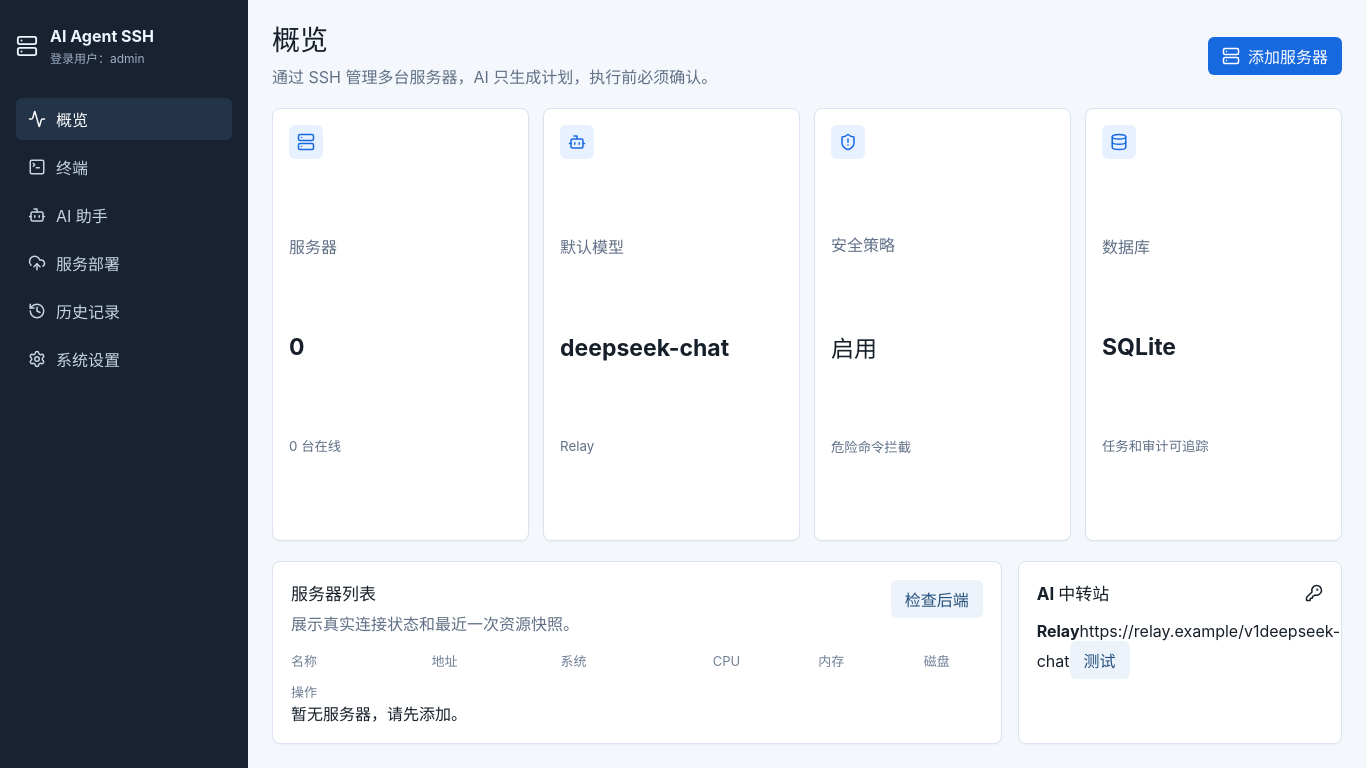
Test case: App interactions › manages AI provider testing, model fetching, manual model and default model
Click the button "系统设置".
click(124, 359)  # box x1=16 y1=338 x2=232 y2=380
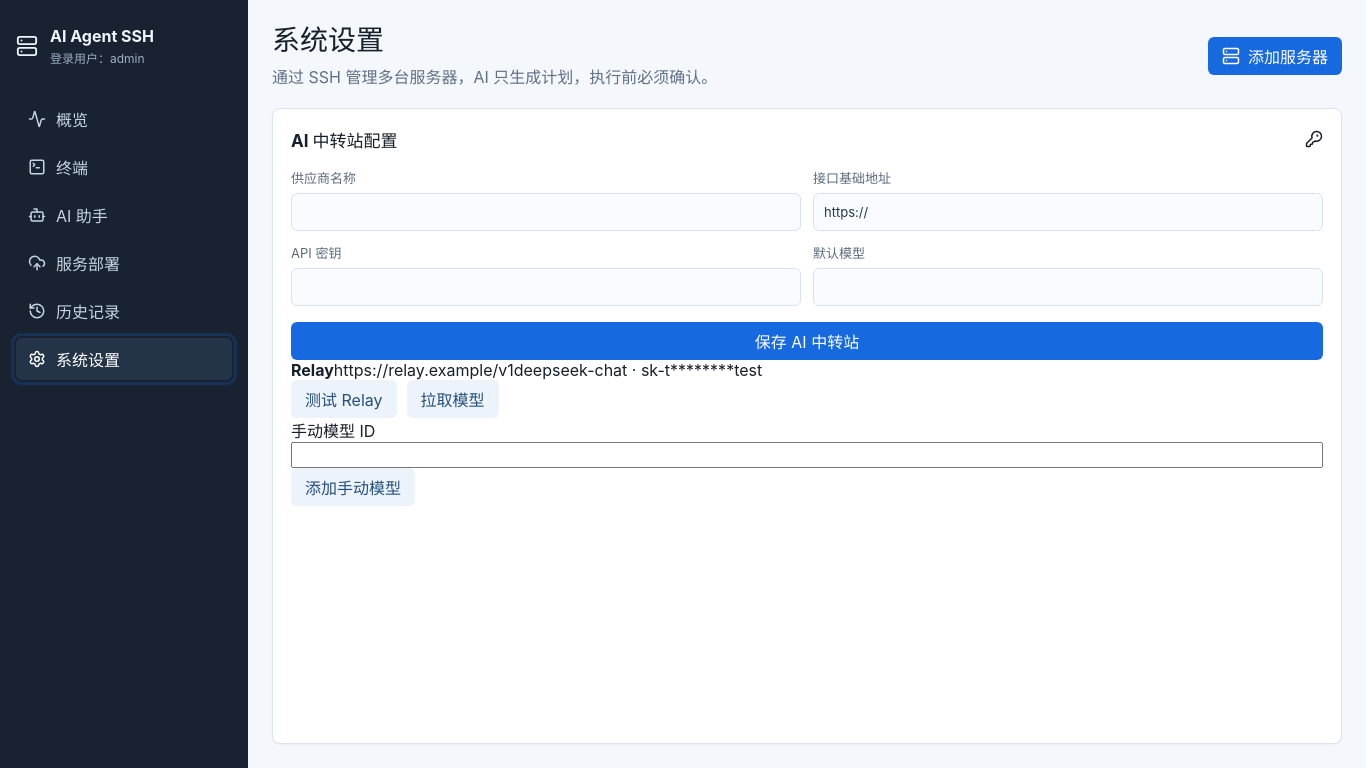
Click the button "测试 Relay".
click(344, 399)  # box x1=291 y1=380 x2=396 y2=418
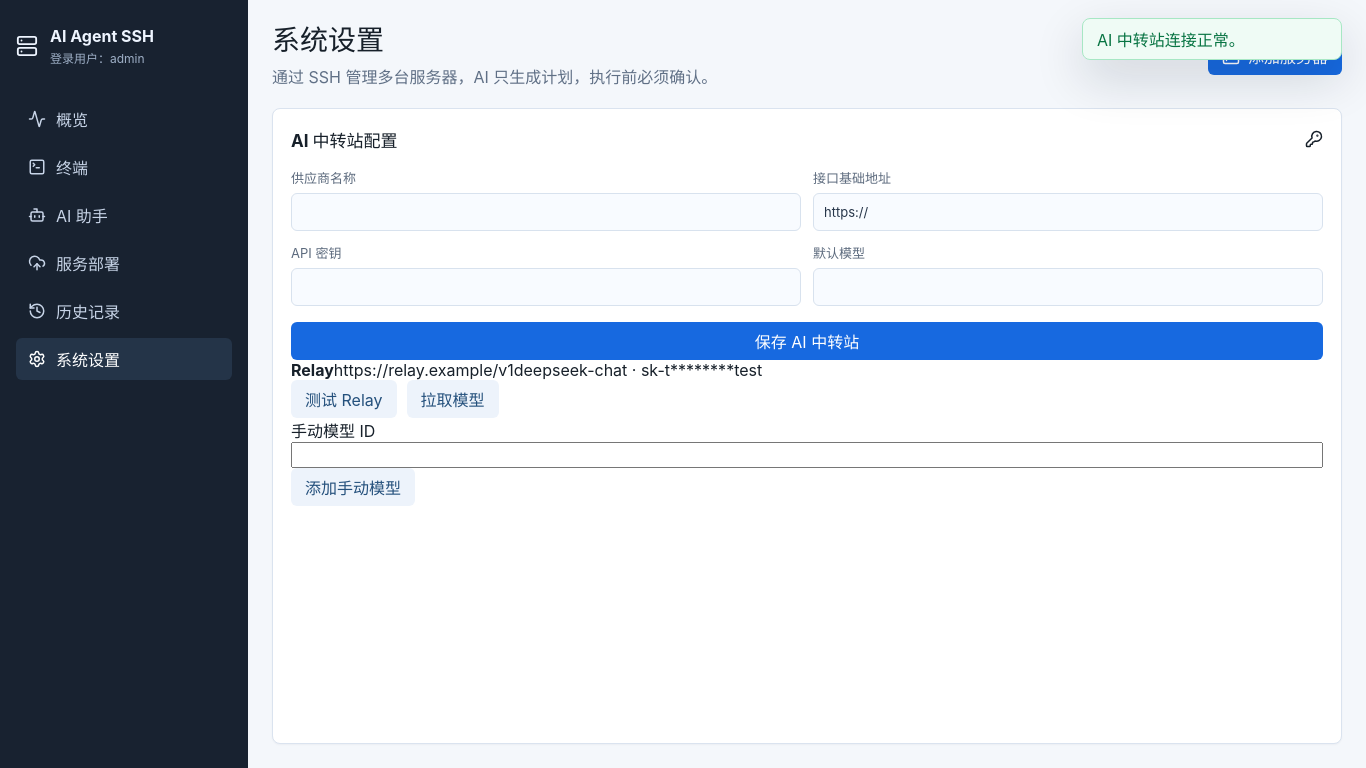
Now the text "AI 中转站连接正常。" is shown, box x1=1082 y1=18 x2=1342 y2=60
Click the button "拉取模型".
click(452, 399)  # box x1=406 y1=380 x2=498 y2=418
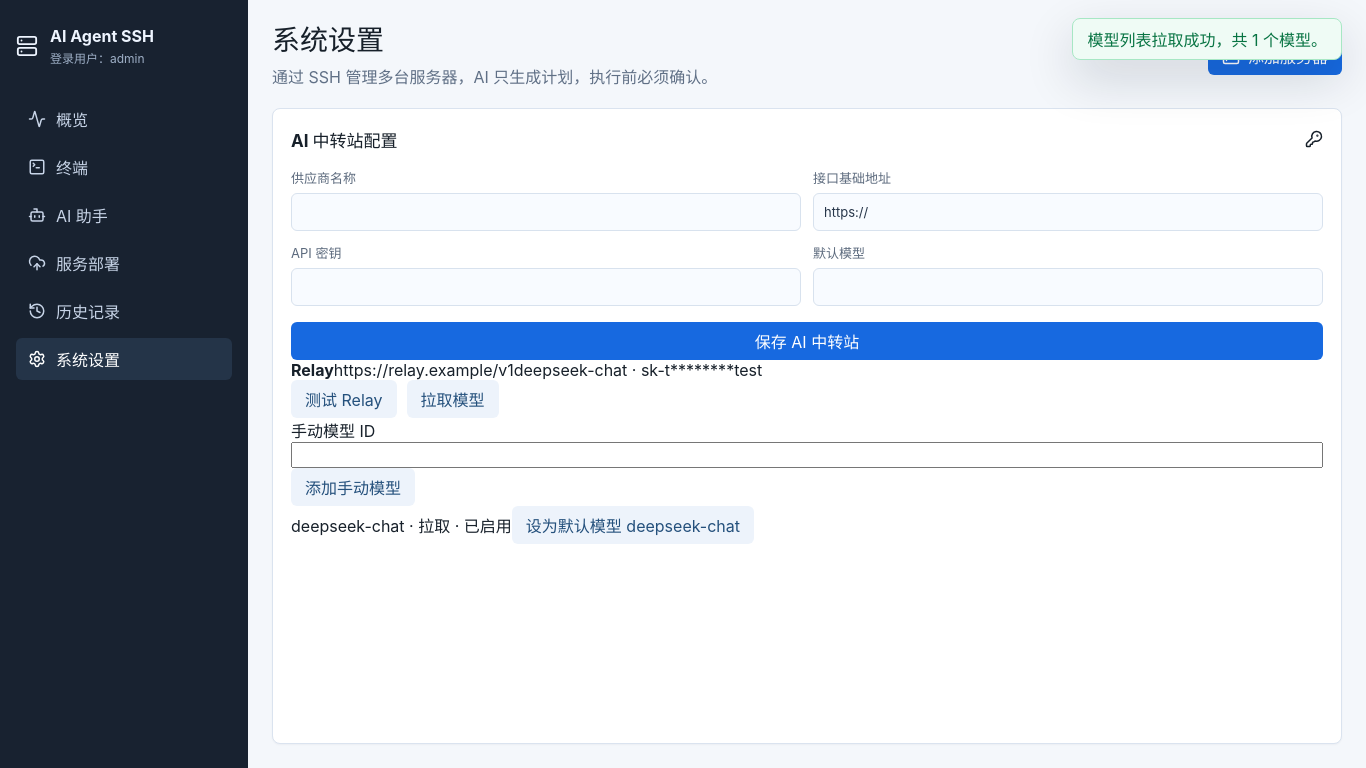
Now the text "deepseek-chat · 拉取 · 已启用" is shown, box x1=291 y1=516 x2=512 y2=536
Type "qwen-max" into the field labelled "手动模型 ID".
click(807, 455); type("qwen-max")  # box x1=291 y1=442 x2=1323 y2=468
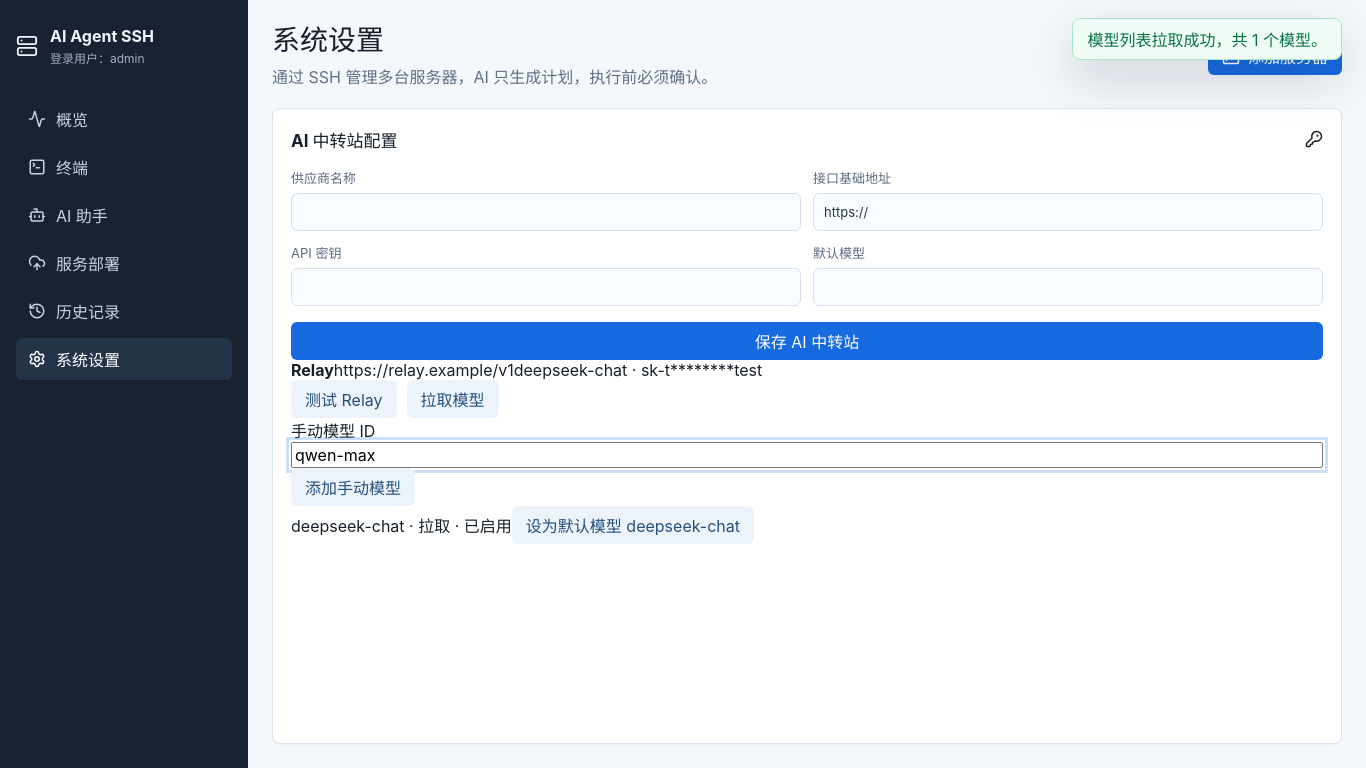
Click the button "添加手动模型".
click(353, 487)  # box x1=291 y1=468 x2=415 y2=506
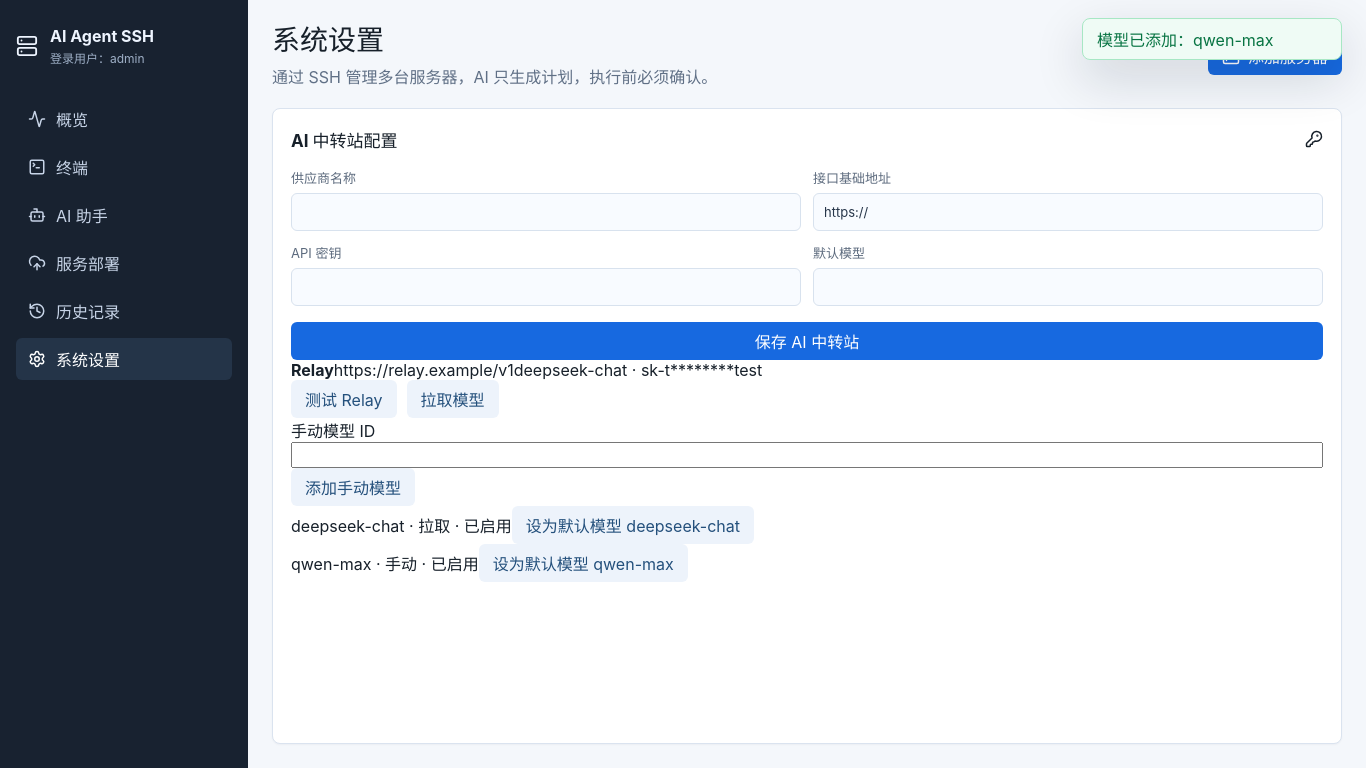
Now the text "模型已添加：qwen-max" is shown, box x1=1082 y1=18 x2=1342 y2=60
Click the button "设为默认模型 qwen-max".
click(583, 563)  # box x1=479 y1=544 x2=688 y2=582
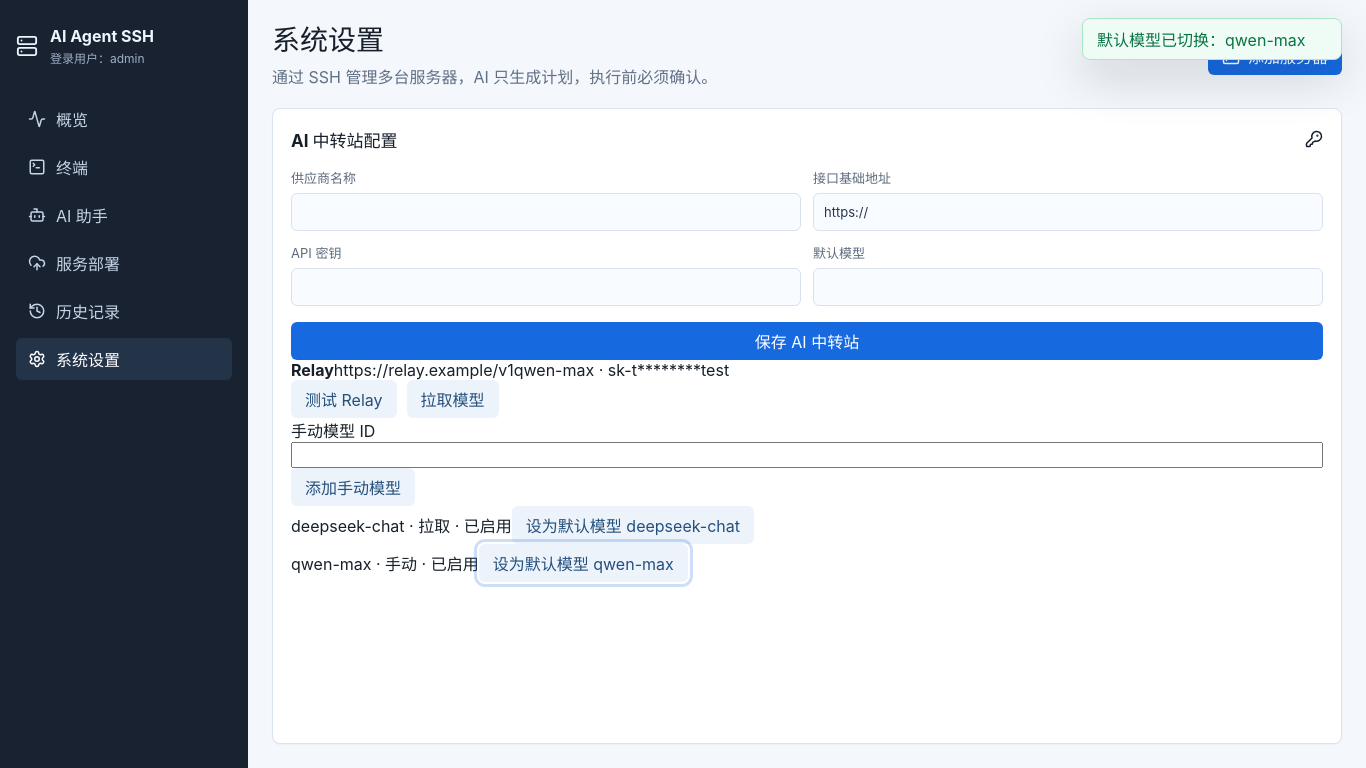
Now the text "默认模型已切换：qwen-max" is shown, box x1=1082 y1=18 x2=1342 y2=60
